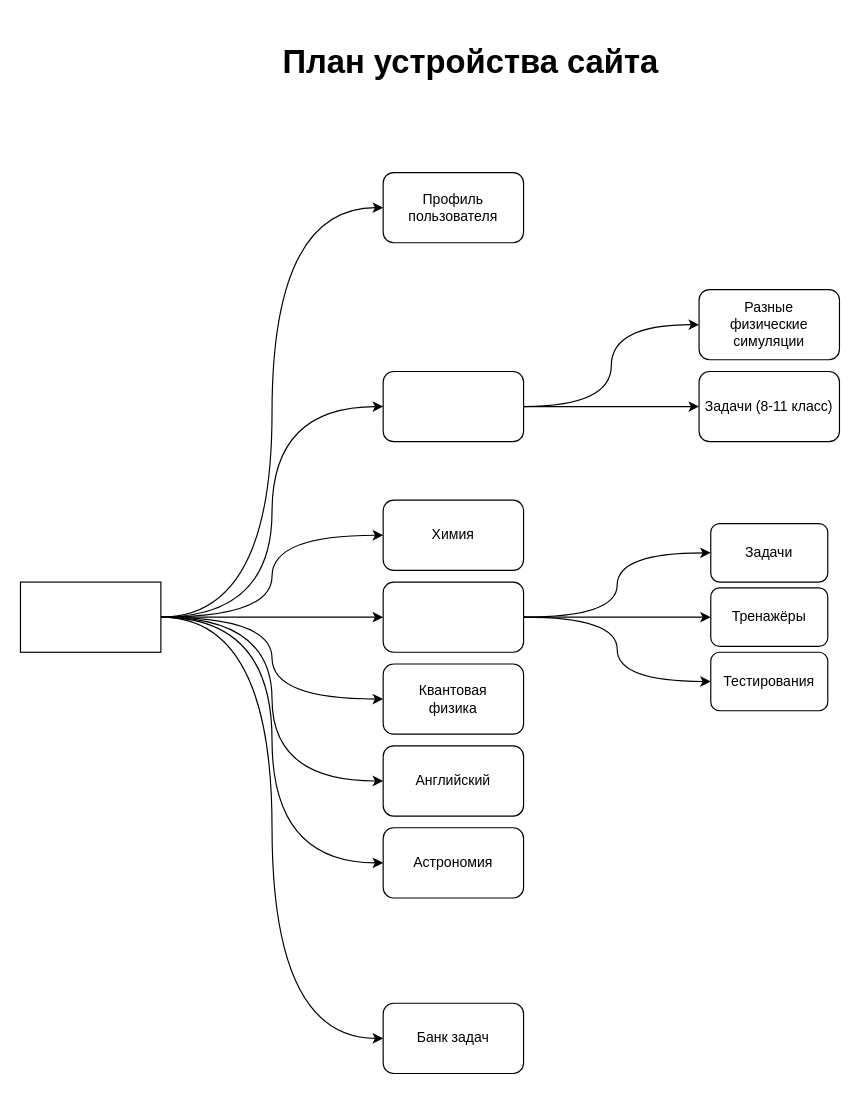
This 860x1094 diagram has some shape labels left out. Each missing label, with the centre of its shape:
"Лобби" goes at point 90,616.
"Математика" goes at point 453,616.
"Физика" goes at point 453,406.
